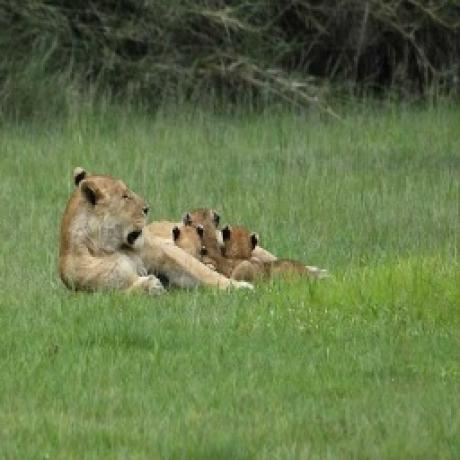Lion: (52, 165, 306, 296)
